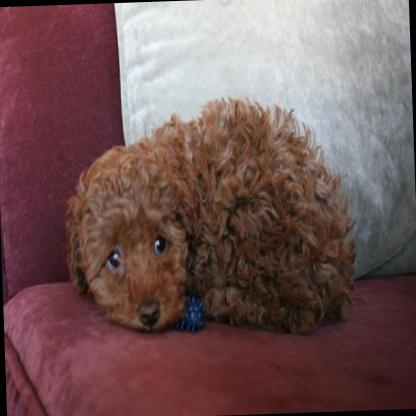miniature_poodle: (58, 90, 355, 341)
